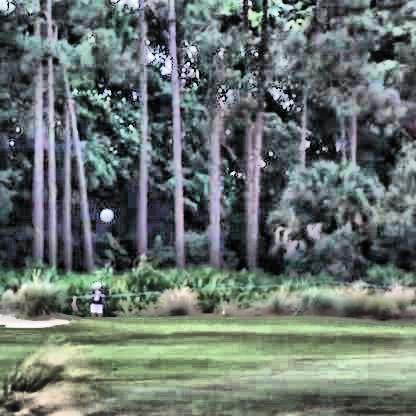golfball: (98, 206, 109, 219)
